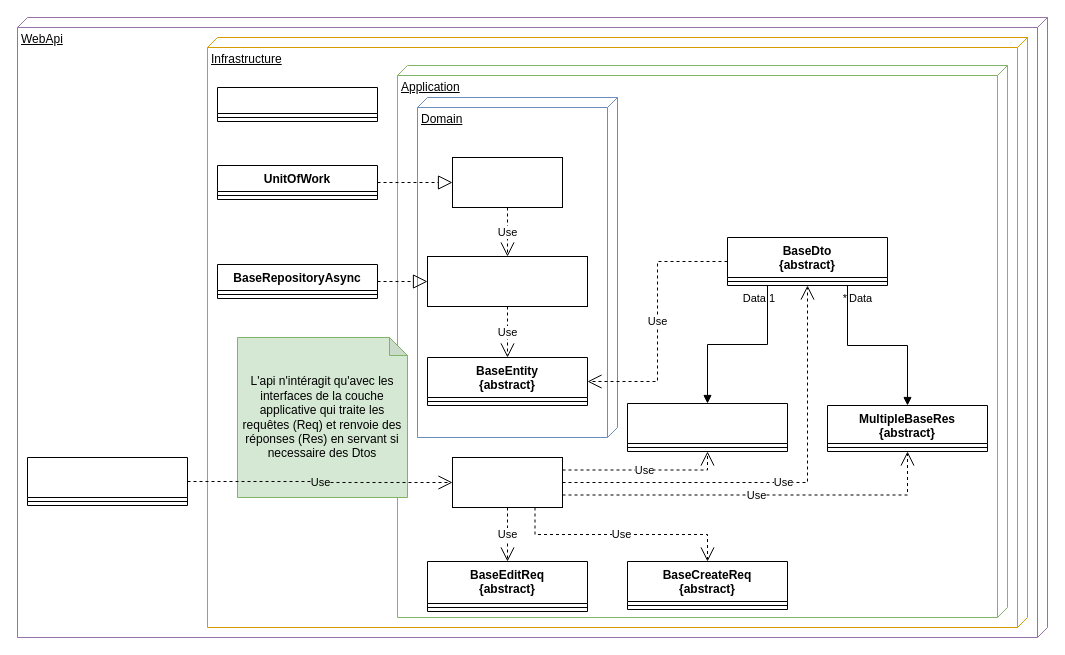
This 1065x655 diagram has some shape labels left out. The box of each missing label's shape, as (x1, y1, x2, y2) in pixels:
AppDbContext: (216, 86, 378, 122)
BaseControllerApp {abstract}: (26, 456, 188, 506)
BaseRes {abstract}: (626, 402, 788, 452)
«interface» IBaseRepositoryAsync: (426, 256, 588, 306)
«interface» IBaseService: (452, 456, 562, 508)
«interface» IUnitOfWork: (452, 156, 562, 208)
